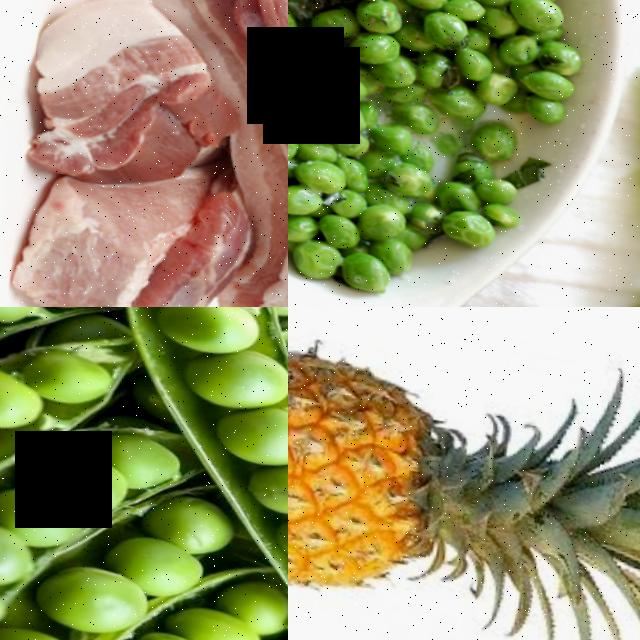peas: (0, 411, 252, 640), (288, 69, 423, 268), (288, 0, 527, 99), (138, 307, 288, 460), (101, 587, 283, 640)
pineapple: (288, 309, 495, 629)
pork belly: (26, 0, 271, 193), (0, 153, 261, 307), (227, 0, 288, 307)
